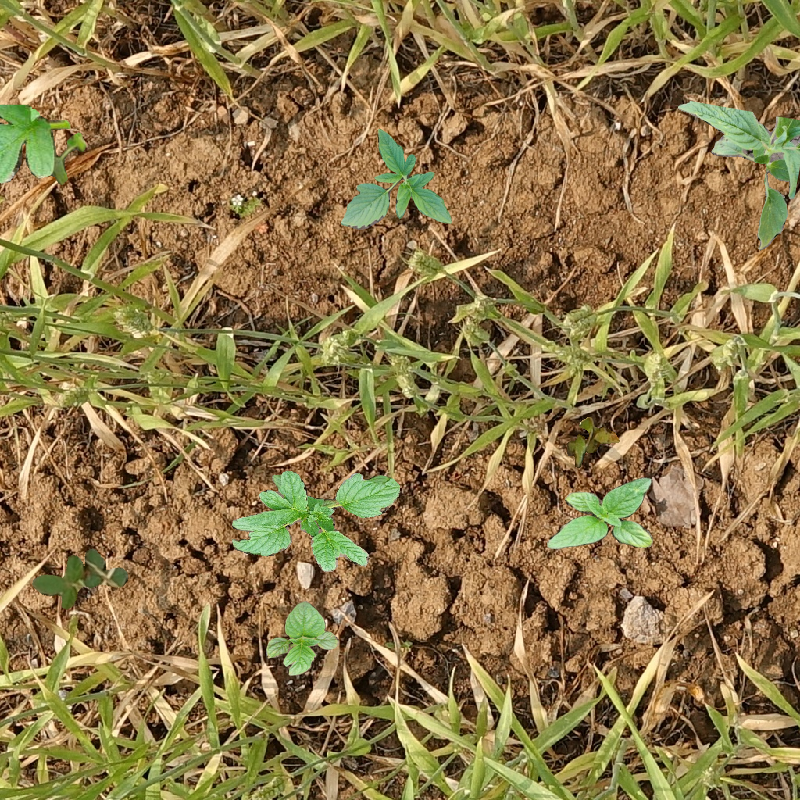spikelet: (49, 373, 99, 409), (641, 349, 671, 403), (112, 301, 156, 336), (316, 329, 354, 366), (559, 303, 599, 337), (710, 333, 746, 370), (389, 356, 419, 399), (457, 292, 497, 323), (406, 247, 444, 279), (246, 775, 290, 799), (697, 761, 724, 789)
weed: (655, 99, 800, 255), (226, 468, 398, 576), (341, 129, 452, 230), (29, 529, 132, 632), (547, 477, 653, 549), (1, 104, 87, 185), (266, 601, 339, 676), (567, 417, 620, 468)
